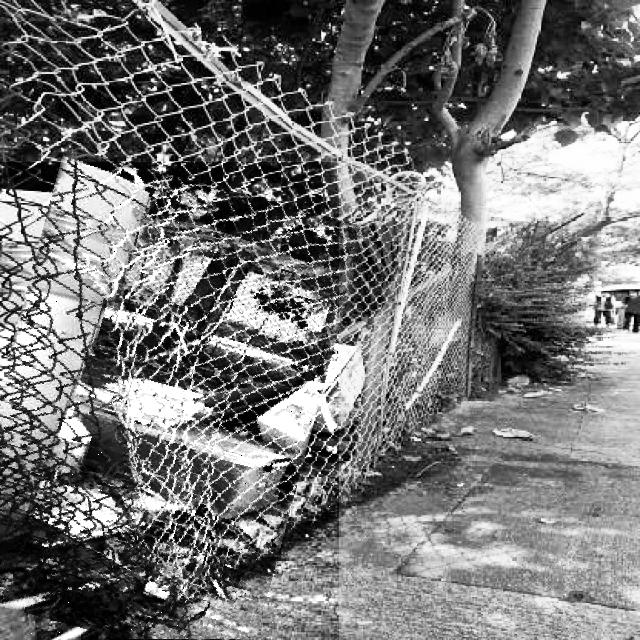anomaly-fence: (0, 162, 339, 640)
